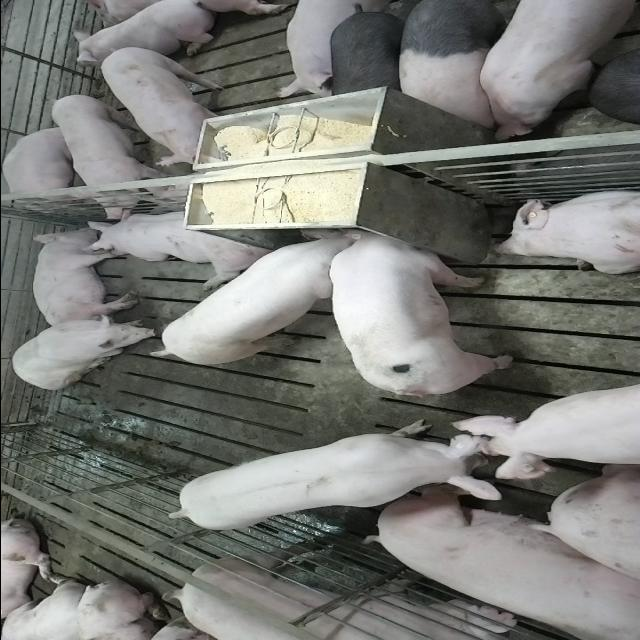Feeding: (327, 220, 517, 392), (142, 232, 356, 368)
Lateral_lying: (366, 489, 640, 637), (28, 226, 140, 330)
Sitting: (6, 316, 158, 390)
Standing: (166, 419, 509, 533), (174, 541, 530, 640), (475, 2, 640, 141), (448, 380, 640, 486), (98, 44, 232, 168), (395, 2, 518, 130), (47, 91, 163, 219), (324, 3, 413, 111)
Sternal_lying: (80, 208, 267, 284), (490, 186, 640, 274), (70, 1, 222, 64), (3, 125, 87, 206)
